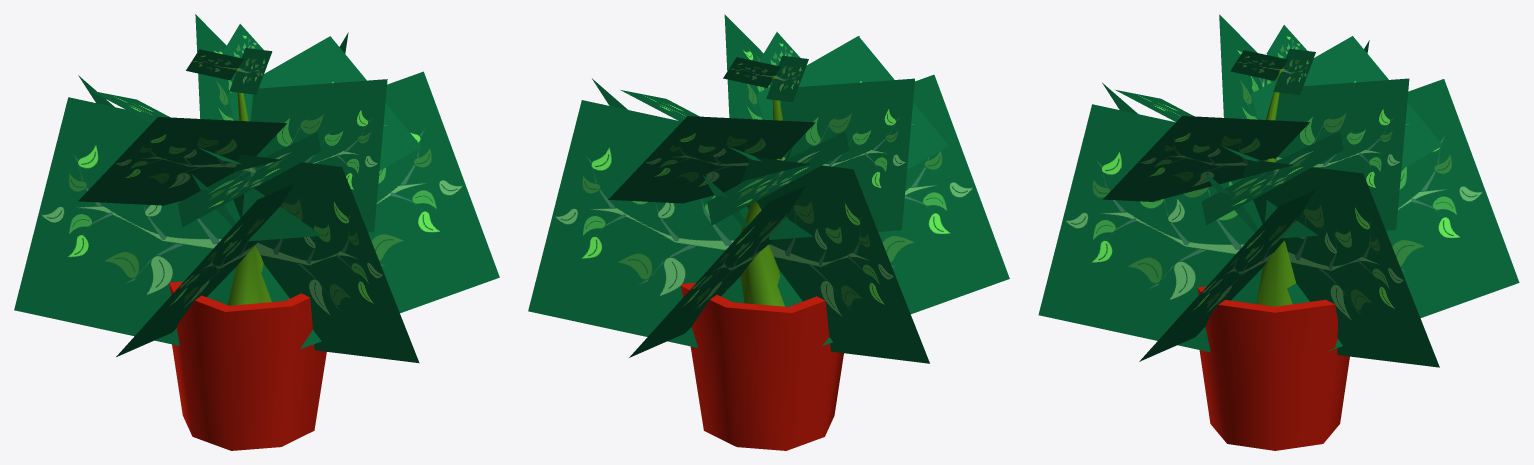
File: House_Anywhere_Plant_ Bushy.FBX
3 renders of one model, left to right at view 1: azimuth 30°, elevation 25°; view 2: azimuth 150°, elevation 25°; view 3: azimuth 270°, elevation 25°, orthographic.
Visible parts, largest first — view 1: House_Anywhere_Plant_ Bushy_leaves04, House_Anywhere_Plant_ Bushy_pot, House_Anywhere_Plant_ Bushy_leaves12, House_Anywhere_Plant_ Bushy_leaves03, House_Anywhere_Plant_ Bushy_leaves11, House_Anywhere_Plant_ Bushy_leaves09, House_Anywhere_Plant_ Bushy_leaves13, House_Anywhere_Plant_ Bushy_leaves07, House_Anywhere_Plant_ Bushy_leaves01, House_Anywhere_Plant_ Bushy_leaves10, House_Anywhere_Plant_ Bushy_root, House_Anywhere_Plant_ Bushy_leaves06 (+4 smaller); view 2: House_Anywhere_Plant_ Bushy_leaves05, House_Anywhere_Plant_ Bushy_pot, House_Anywhere_Plant_ Bushy_leaves04, House_Anywhere_Plant_ Bushy_leaves13, House_Anywhere_Plant_ Bushy_leaves09, House_Anywhere_Plant_ Bushy_leaves10, House_Anywhere_Plant_ Bushy_leaves02, House_Anywhere_Plant_ Bushy_leaves01, House_Anywhere_Plant_ Bushy_leaves00, House_Anywhere_Plant_ Bushy_root, House_Anywhere_Plant_ Bushy_leaves11, House_Anywhere_Plant_ Bushy_leaves14 (+4 smaller); view 3: House_Anywhere_Plant_ Bushy_leaves03, House_Anywhere_Plant_ Bushy_pot, House_Anywhere_Plant_ Bushy_leaves05, House_Anywhere_Plant_ Bushy_leaves02, House_Anywhere_Plant_ Bushy_leaves10, House_Anywhere_Plant_ Bushy_leaves11, House_Anywhere_Plant_ Bushy_leaves12, House_Anywhere_Plant_ Bushy_leaves00, House_Anywhere_Plant_ Bushy_leaves07, House_Anywhere_Plant_ Bushy_leaves09, House_Anywhere_Plant_ Bushy_root, House_Anywhere_Plant_ Bushy_leaves08 (+4 smaller).
Boxes of the visible parts, bbox=[...] form: House_Anywhere_Plant_ Bushy_leaves04: bbox=[14, 97, 240, 345]; House_Anywhere_Plant_ Bushy_pot: bbox=[169, 281, 326, 450]; House_Anywhere_Plant_ Bushy_leaves12: bbox=[261, 71, 499, 348]; House_Anywhere_Plant_ Bushy_leaves03: bbox=[233, 154, 419, 363]; House_Anywhere_Plant_ Bushy_leaves11: bbox=[242, 79, 387, 241]; House_Anywhere_Plant_ Bushy_leaves09: bbox=[78, 117, 286, 205]; House_Anywhere_Plant_ Bushy_leaves13: bbox=[116, 184, 293, 356]; House_Anywhere_Plant_ Bushy_leaves07: bbox=[227, 36, 421, 170]; House_Anywhere_Plant_ Bushy_leaves01: bbox=[177, 132, 320, 227]; House_Anywhere_Plant_ Bushy_leaves10: bbox=[195, 14, 235, 120]; House_Anywhere_Plant_ Bushy_root: bbox=[227, 56, 271, 305]; House_Anywhere_Plant_ Bushy_leaves06: bbox=[229, 48, 272, 94]; House_Anywhere_Plant_ Bushy_leaves05: bbox=[528, 100, 748, 347]; House_Anywhere_Plant_ Bushy_pot: bbox=[681, 282, 843, 450]; House_Anywhere_Plant_ Bushy_leaves04: bbox=[740, 157, 929, 363]; House_Anywhere_Plant_ Bushy_leaves13: bbox=[777, 74, 1009, 345]; House_Anywhere_Plant_ Bushy_leaves09: bbox=[769, 78, 914, 239]; House_Anywhere_Plant_ Bushy_leaves10: bbox=[608, 116, 815, 203]; House_Anywhere_Plant_ Bushy_leaves02: bbox=[629, 186, 805, 357]; House_Anywhere_Plant_ Bushy_leaves01: bbox=[756, 36, 948, 169]; House_Anywhere_Plant_ Bushy_leaves00: bbox=[707, 131, 849, 225]; House_Anywhere_Plant_ Bushy_root: bbox=[740, 75, 784, 306]; House_Anywhere_Plant_ Bushy_leaves11: bbox=[724, 14, 772, 119]; House_Anywhere_Plant_ Bushy_leaves14: bbox=[766, 56, 808, 102]; House_Anywhere_Plant_ Bushy_leaves03: bbox=[1038, 104, 1262, 352]; House_Anywhere_Plant_ Bushy_pot: bbox=[1197, 286, 1349, 450]; House_Anywhere_Plant_ Bushy_leaves05: bbox=[1243, 160, 1439, 367]; House_Anywhere_Plant_ Bushy_leaves02: bbox=[1287, 79, 1519, 352]; House_Anywhere_Plant_ Bushy_leaves10: bbox=[1265, 78, 1409, 238]; House_Anywhere_Plant_ Bushy_leaves11: bbox=[1103, 116, 1309, 201]; House_Anywhere_Plant_ Bushy_leaves12: bbox=[1139, 190, 1315, 361]; House_Anywhere_Plant_ Bushy_leaves00: bbox=[1251, 36, 1442, 169]; House_Anywhere_Plant_ Bushy_leaves07: bbox=[1201, 131, 1343, 224]; House_Anywhere_Plant_ Bushy_leaves09: bbox=[1219, 14, 1277, 119]; House_Anywhere_Plant_ Bushy_root: bbox=[1256, 58, 1295, 306]; House_Anywhere_Plant_ Bushy_leaves08: bbox=[1273, 48, 1315, 94].
Bounding box in the file's own units: 239 × 229 × 264.
